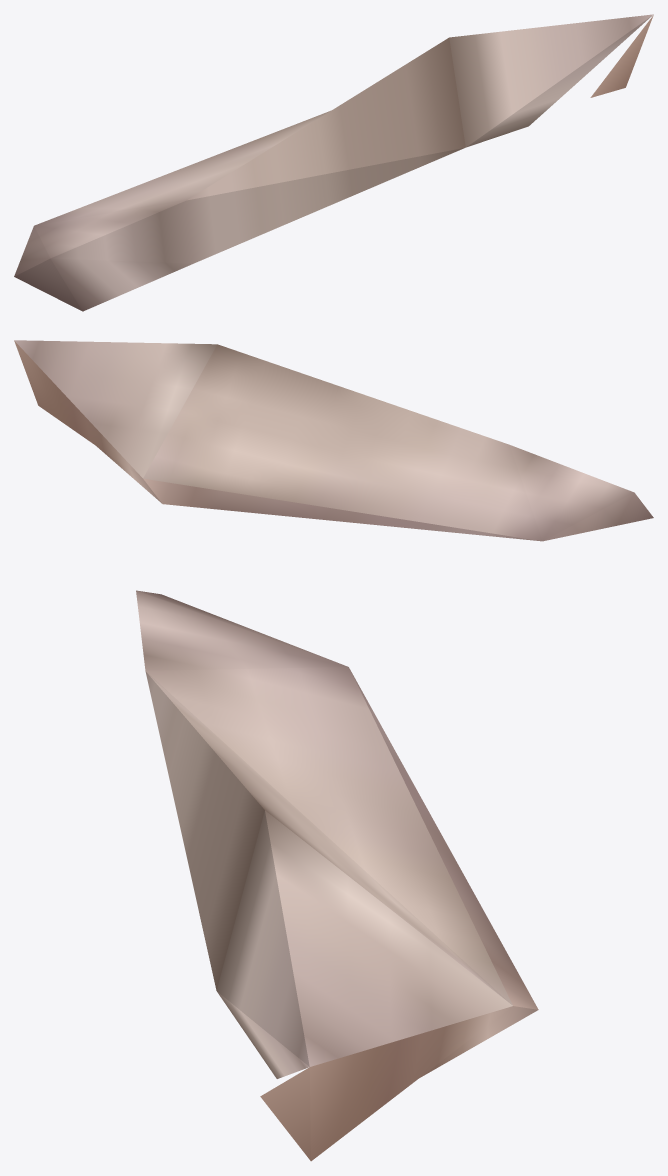
3 renders of one model, top to bottom at view 1: azimuth 30°, elevation 25°; view 2: azimuth 150°, elevation 25°; view 3: azimuth 270°, elevation 25°, orthographic. The views are drawn at different scales.
Visible parts, largest first — view 1: Mesh_0; view 2: Mesh_0; view 3: Mesh_0.
Boxes of the visible parts, x1,y1,x2,y2 form: Mesh_0: [14, 14, 653, 311]; Mesh_0: [14, 340, 653, 541]; Mesh_0: [136, 590, 538, 1161].
Bounding box in the file's own units: 7.69 × 1.79 × 2.26.
1 material, 1 textured.
